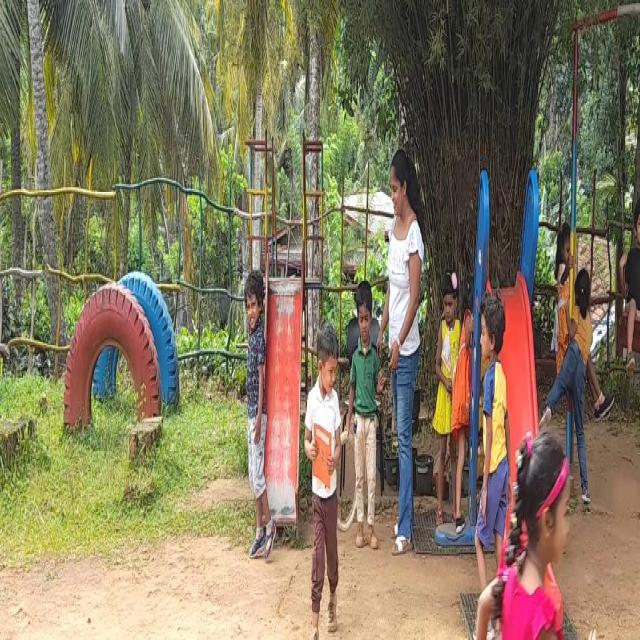adult: (379, 137, 424, 550)
child: (494, 415, 602, 640), (294, 324, 342, 640), (345, 263, 381, 563), (240, 255, 276, 552), (475, 279, 506, 570), (558, 242, 591, 498), (434, 259, 466, 518), (619, 155, 640, 373)
